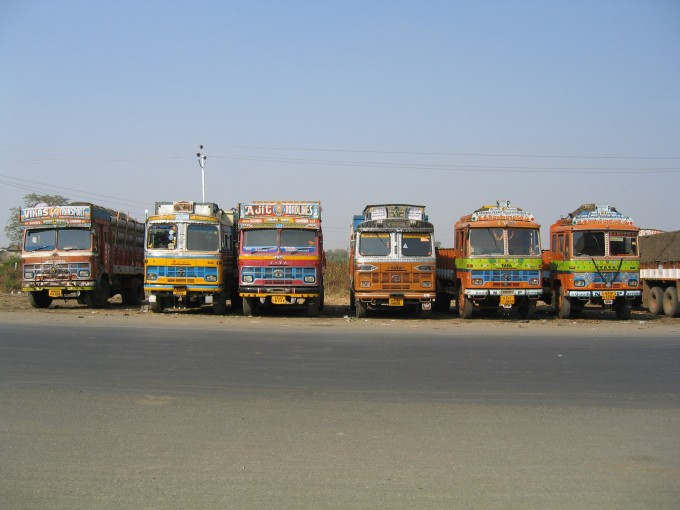truck: (21, 204, 140, 310), (453, 209, 543, 321), (551, 212, 642, 322), (352, 204, 435, 322), (238, 201, 324, 314), (146, 204, 232, 312)
